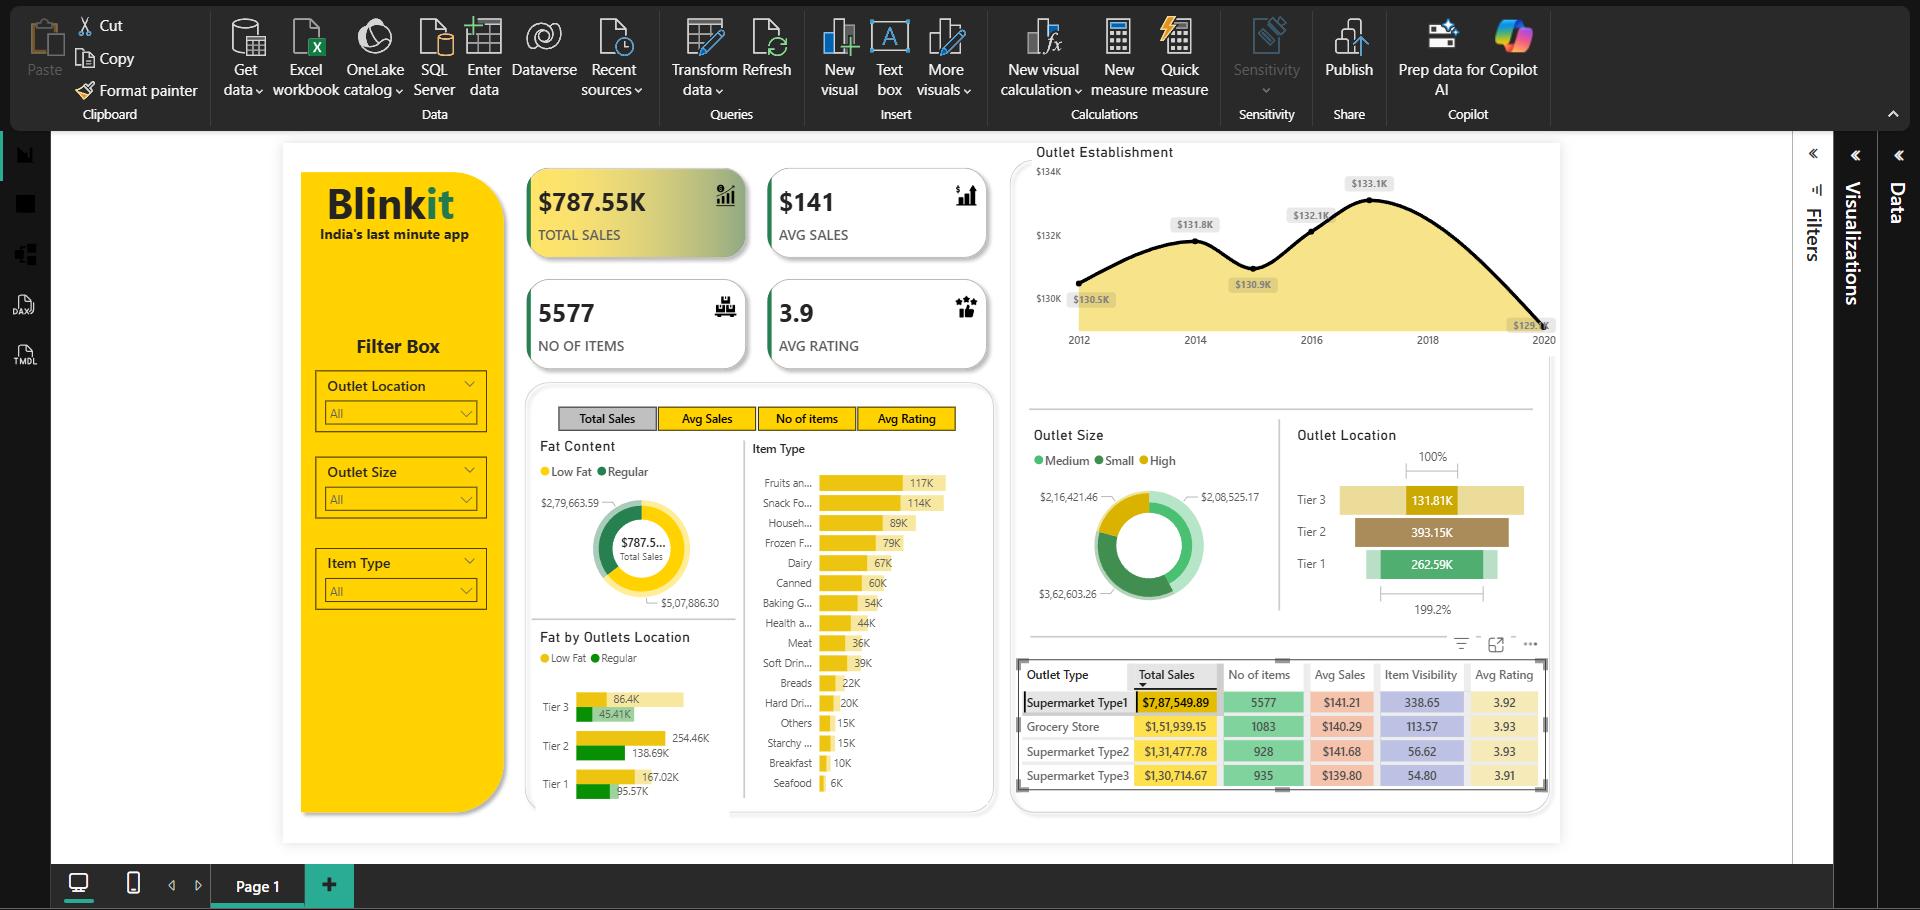

Layout of this report page (visuals, bound fields, positions):
{"tool":"powerbi","page":{"name":"Page 1","canvas":[1460,800],"ordinal":0},"visuals":[{"type":"shape","box":[11.4,24.3,250,750],"z":0},{"type":"textbox","box":[44.3,30,162.9,92.9],"z":1000},{"type":"textbox","box":[37.1,87.1,195.7,45.7],"z":2000},{"type":"cardVisual","fields":{"Data":["BlinkIT Grocery Data.Total Sales","BlinkIT Grocery Data.Avg Sales","BlinkIT Grocery Data.Total items Sold","BlinkIT Grocery Data.Avg Rating"]},"box":[261.4,11.4,560,264.3],"z":3000},{"type":"shape","box":[267.1,264.3,554.3,510],"z":4000},{"type":"donutChart","title":"Fat Content","fields":{"Y":["BlinkIT Grocery Data.Total Sales"],"Category":["BlinkIT Grocery Data.Item Fat Content"]},"box":[288.6,335.7,242.9,207.1],"z":5000},{"type":"slicer","fields":{"Values":["Metrics.Metrics"]},"box":[288.6,294.3,504.3,41.4],"z":6000},{"type":"cardVisual","fields":{"Data":["BlinkIT Grocery Data.Total Sales"]},"box":[365.7,424.3,88.6,77.1],"z":7000},{"type":"clusteredBarChart","title":"Fat by Outlets Location","fields":{"Y":["BlinkIT Grocery Data.Total Sales"],"Category":["BlinkIT Grocery Data.Outlet Location Type"],"Series":["BlinkIT Grocery Data.Item Fat Content"]},"box":[288.6,554.3,221.4,220],"z":8000},{"type":"shape","box":[284.3,534.3,232.9,20],"z":9000},{"type":"shape","box":[522.9,340,8.6,408.6],"z":10000},{"type":"barChart","title":"Item Type","fields":{"Y":["BlinkIT Grocery Data.Total Sales"],"Category":["BlinkIT Grocery Data.Item Type"]},"box":[531.4,340,274.3,415.7],"z":11000},{"type":"shape","box":[821.4,10,635.7,764.3],"z":12000},{"type":"lineChart","title":"Outlet Establishment","fields":{"Category":["BlinkIT Grocery Data.Outlet Establishment Year"],"Y":["BlinkIT Grocery Data.Total Sales"]},"box":[855.7,0,604.3,244.3],"z":13000},{"type":"shape","box":[852.9,294.3,575.7,20],"z":14000},{"type":"donutChart","title":"Outlet Size","fields":{"Y":["BlinkIT Grocery Data.Total Sales"],"Category":["BlinkIT Grocery Data.Outlet Size"]},"box":[852.9,322.9,274.3,225.7],"z":15000},{"type":"shape","box":[1135.7,315.7,5.7,218.6],"z":16000},{"type":"funnel","title":"Outlet Location","fields":{"Y":["BlinkIT Grocery Data.Total Sales"],"Category":["BlinkIT Grocery Data.Outlet Location Type"]},"box":[1154.3,322.9,274.3,225.7],"z":17000},{"type":"shape","box":[854.3,554.3,575.7,20],"z":18000},{"type":"pivotTable","fields":{"Rows":["BlinkIT Grocery Data.Outlet Type"],"Values":["BlinkIT Grocery Data.Total Sales","BlinkIT Grocery Data.No of items","BlinkIT Grocery Data.Avg Sales","Sum(BlinkIT Grocery Data.Item Visibility)","BlinkIT Grocery Data.Avg Rating"]},"box":[840,590,604.3,150],"z":19000},{"type":"slicer","fields":{"Values":["BlinkIT Grocery Data.Outlet Location Type"]},"box":[37.1,260,195.7,70],"z":19001},{"type":"slicer","fields":{"Values":["BlinkIT Grocery Data.Outlet Size"]},"box":[37.1,358.6,195.7,70],"z":19002},{"type":"slicer","fields":{"Values":["BlinkIT Grocery Data.Item Type"]},"box":[37.1,462.9,195.7,70],"z":19003},{"type":"textbox","box":[78.6,211.4,128.6,38.6],"z":19004}]}

Visuals, with their boxes on the page's 1460x800 design canvas (x1, y1, x2, y2). These are canvas units, not pixel positions in the 1920x910 screenshot, which may show the page scaled, cropped or inside an application window:
shape: [left=11, top=24, right=261, bottom=774]
textbox: [left=44, top=30, right=207, bottom=123]
textbox: [left=37, top=87, right=233, bottom=133]
cardVisual - BlinkIT Grocery Data.Total Sales x BlinkIT Grocery Data.Avg Sales: [left=261, top=11, right=821, bottom=276]
shape: [left=267, top=264, right=821, bottom=774]
"Fat Content" donutChart: [left=289, top=336, right=532, bottom=543]
slicer - Metrics.Metrics: [left=289, top=294, right=793, bottom=336]
cardVisual - BlinkIT Grocery Data.Total Sales: [left=366, top=424, right=454, bottom=501]
"Fat by Outlets Location" clusteredBarChart: [left=289, top=554, right=510, bottom=774]
shape: [left=284, top=534, right=517, bottom=554]
shape: [left=523, top=340, right=532, bottom=749]
"Item Type" barChart: [left=531, top=340, right=806, bottom=756]
shape: [left=821, top=10, right=1457, bottom=774]
"Outlet Establishment" lineChart: [left=856, top=0, right=1460, bottom=244]
shape: [left=853, top=294, right=1429, bottom=314]
"Outlet Size" donutChart: [left=853, top=323, right=1127, bottom=549]
shape: [left=1136, top=316, right=1141, bottom=534]
"Outlet Location" funnel: [left=1154, top=323, right=1429, bottom=549]
shape: [left=854, top=554, right=1430, bottom=574]
pivotTable - BlinkIT Grocery Data.Outlet Type x BlinkIT Grocery Data.Total Sales: [left=840, top=590, right=1444, bottom=740]
slicer - BlinkIT Grocery Data.Outlet Location Type: [left=37, top=260, right=233, bottom=330]
slicer - BlinkIT Grocery Data.Outlet Size: [left=37, top=359, right=233, bottom=429]
slicer - BlinkIT Grocery Data.Item Type: [left=37, top=463, right=233, bottom=533]
textbox: [left=79, top=211, right=207, bottom=250]
